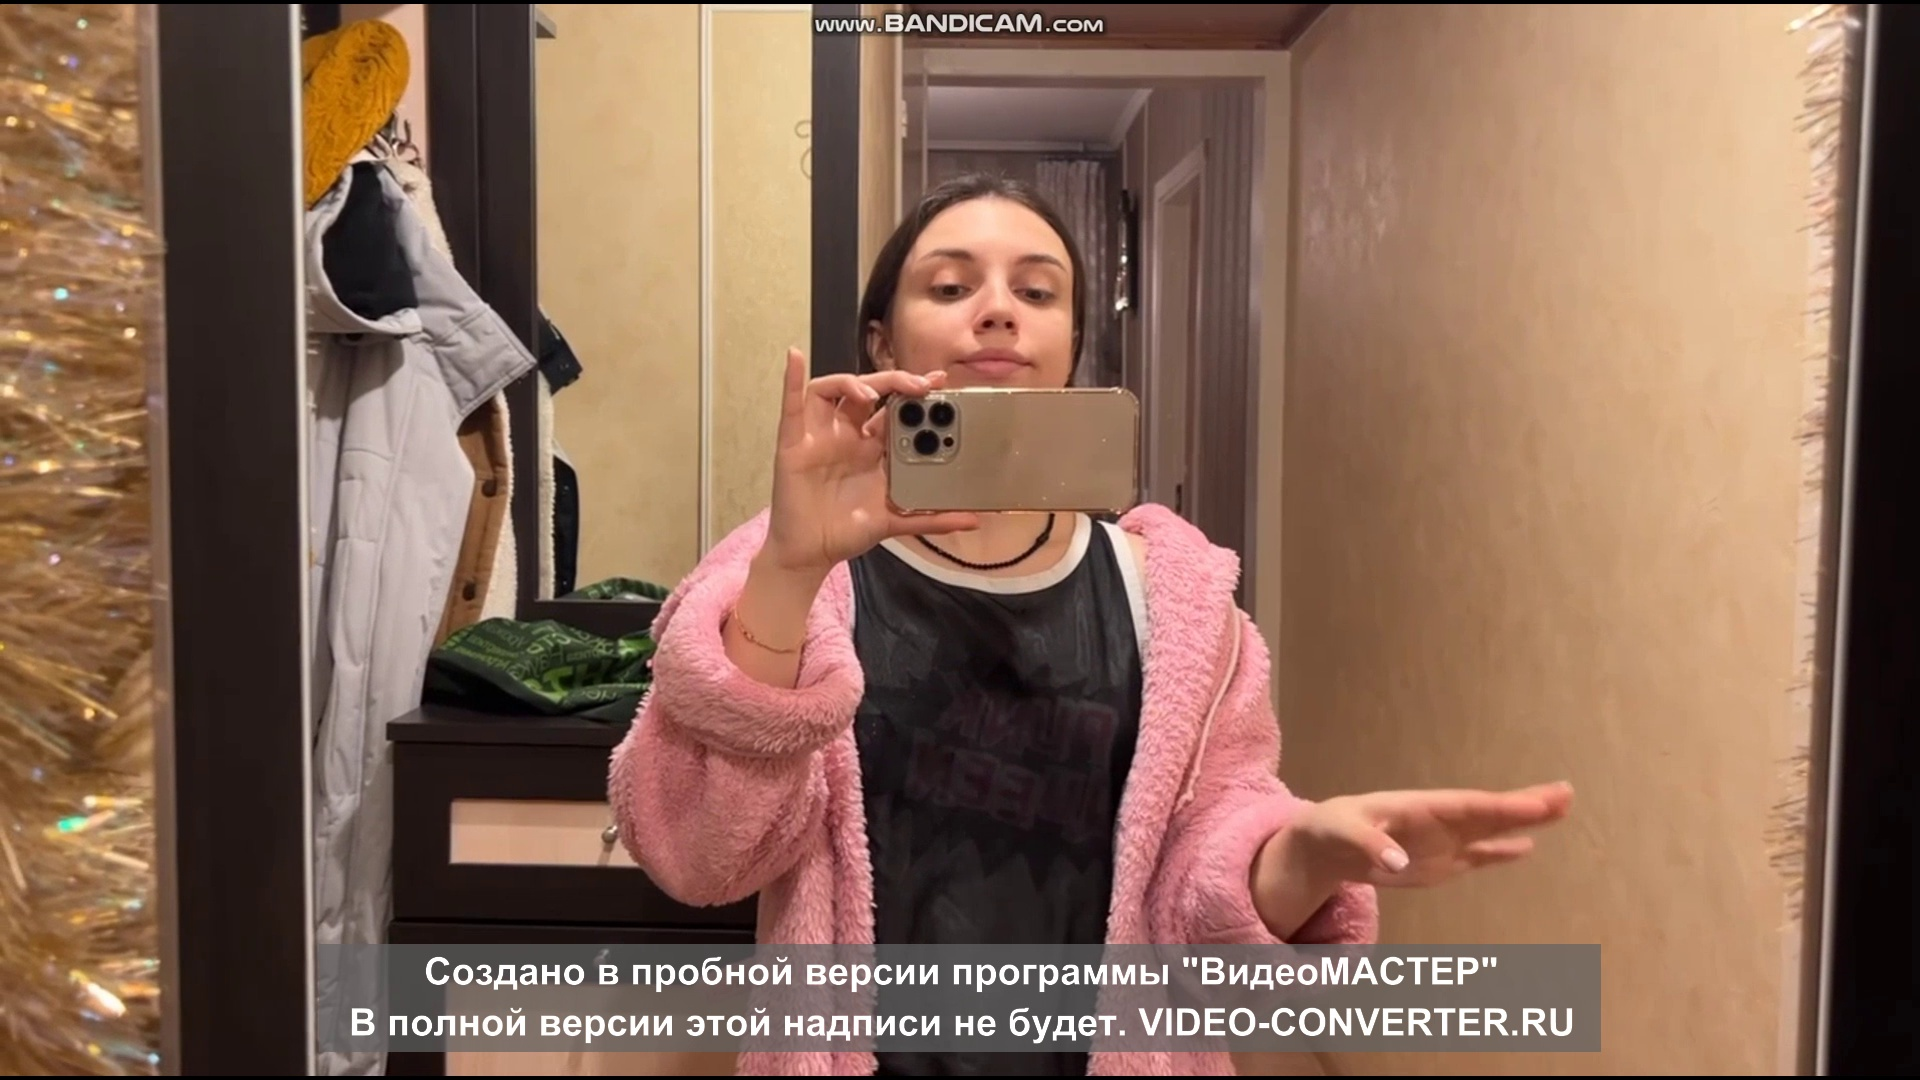Ладонь: (1291, 781, 1575, 890)
